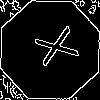X: (25, 25, 79, 72)
